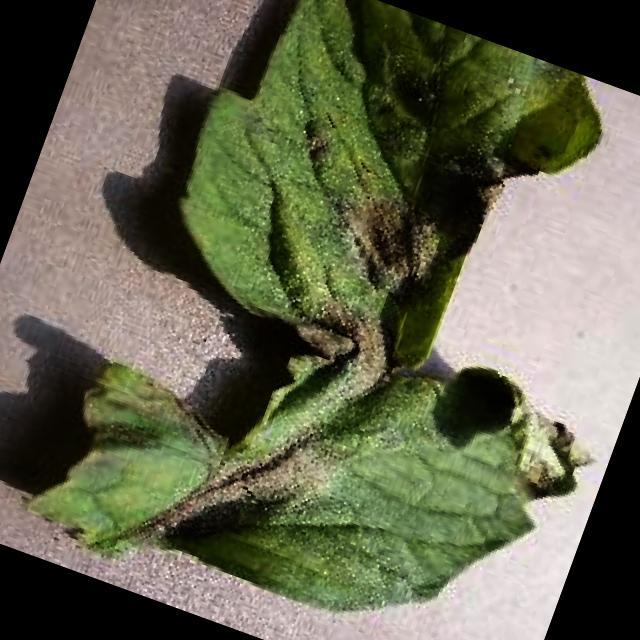Tomato late blight leaf: (15, 0, 640, 640)
